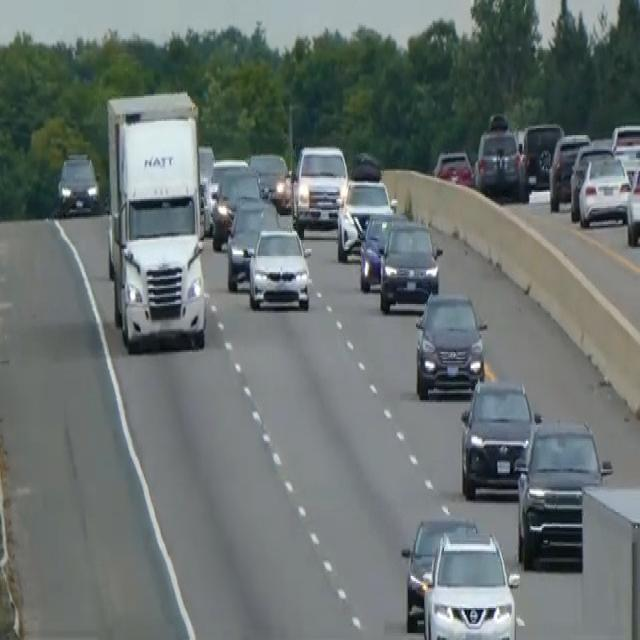car: (515, 414, 612, 569), (421, 530, 519, 638), (459, 375, 540, 500), (400, 514, 477, 631), (414, 290, 487, 398), (378, 219, 442, 313), (247, 224, 311, 311), (225, 196, 279, 290), (291, 143, 348, 230), (336, 176, 392, 260), (210, 164, 261, 247), (357, 208, 407, 292), (474, 114, 523, 199), (577, 151, 631, 228), (568, 140, 613, 217), (548, 132, 591, 210), (56, 149, 100, 217), (521, 119, 563, 189), (248, 149, 291, 208), (208, 154, 248, 210), (432, 148, 473, 186), (625, 160, 639, 247), (610, 121, 639, 151)
lorry: (104, 87, 208, 352)
